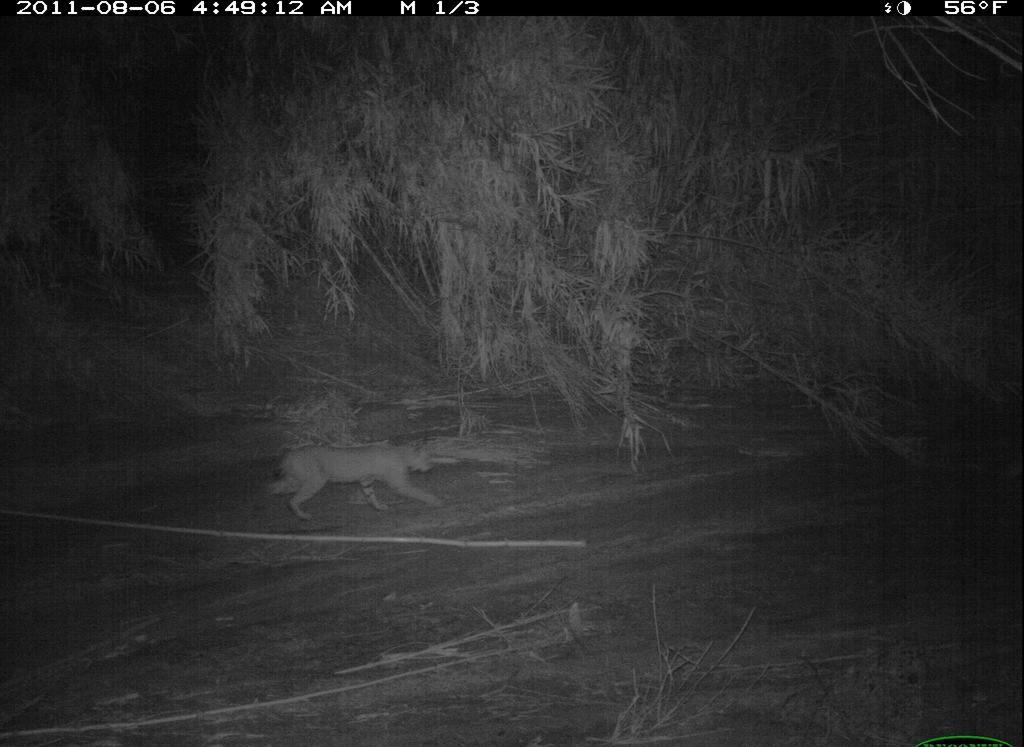bobcat: (267, 437, 445, 519)
